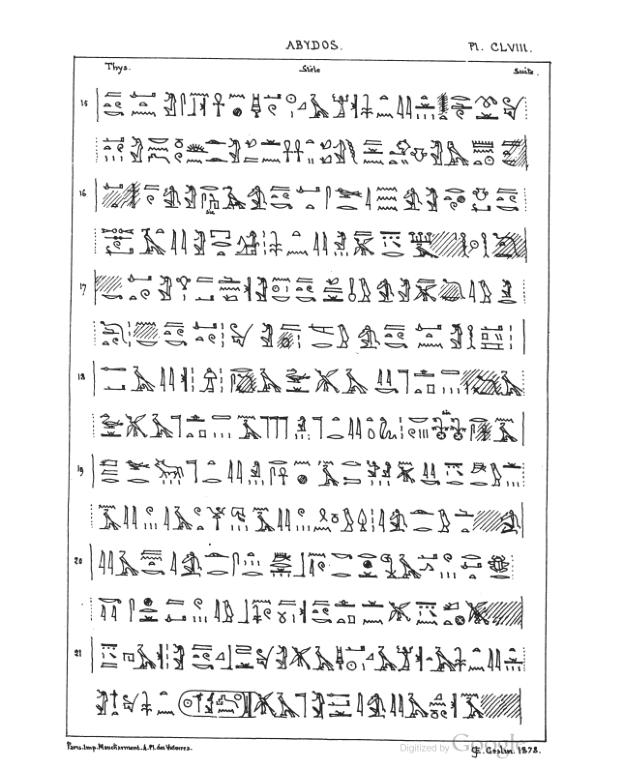circle: (174, 686, 253, 724)
